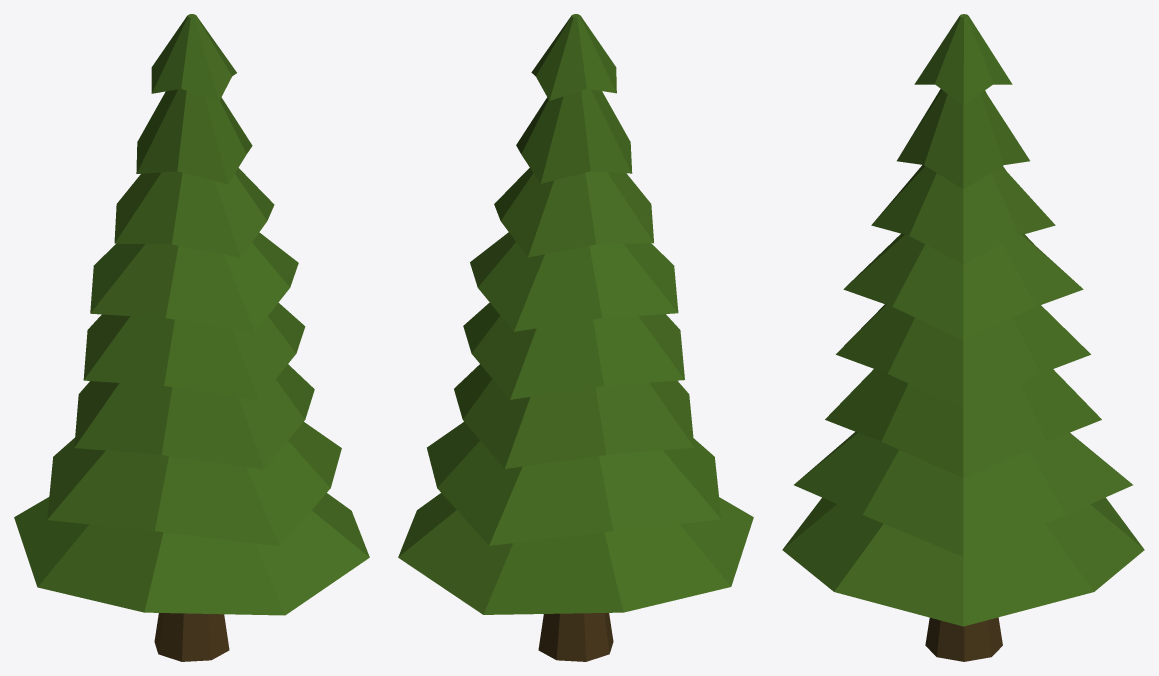
File: pinetree.fbx
3 renders of one model, left to right at view 1: azimuth 30°, elevation 25°; view 2: azimuth 150°, elevation 25°; view 3: azimuth 270°, elevation 25°, orthographic.
Parts seen in each view (by area): view 1: leafs; view 2: leafs; view 3: leafs.
Boxes of the visible parts, x1,y1,x2,y2 form: leafs: (14, 14, 369, 661); leafs: (398, 14, 753, 661); leafs: (782, 14, 1144, 661).
Size of the model in its own units: 506 by 969 by 506.
